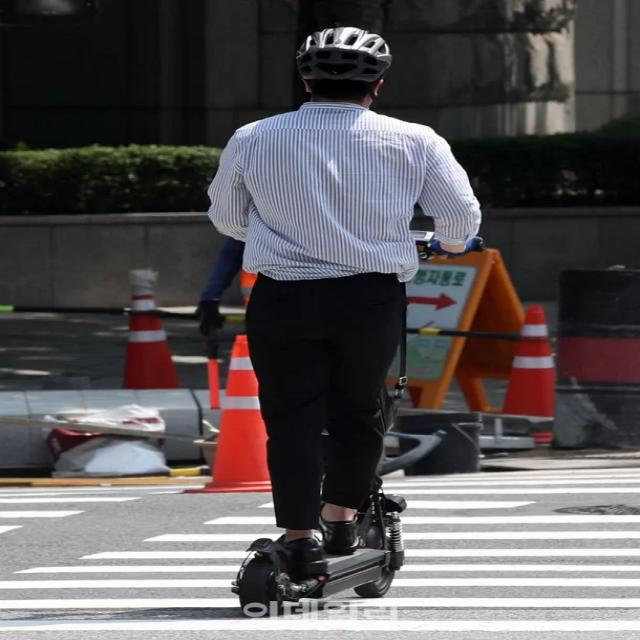helmet: (196, 24, 493, 640)
